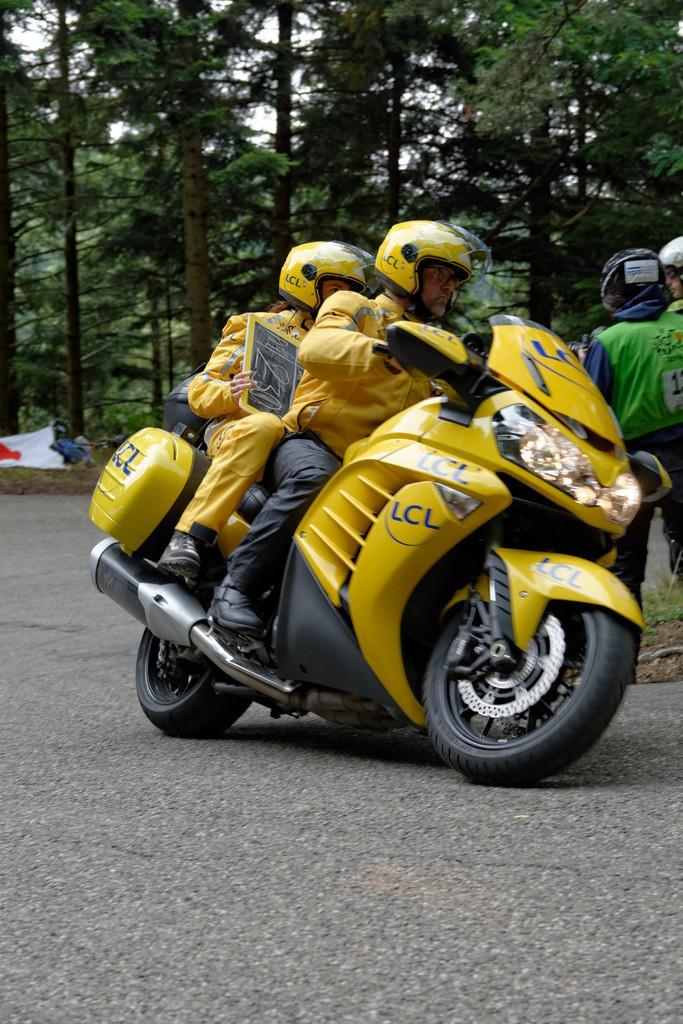helmet: (373, 218, 491, 323), (278, 240, 379, 316), (598, 247, 668, 315), (658, 234, 683, 300)
